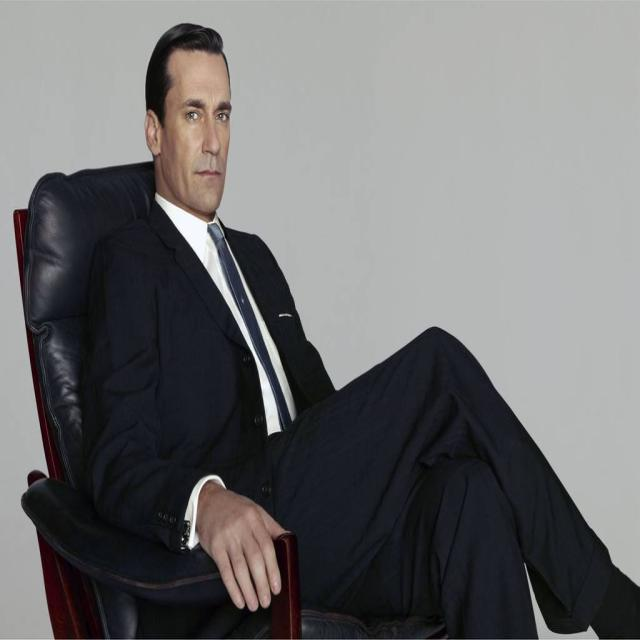human: (83, 8, 640, 640)
